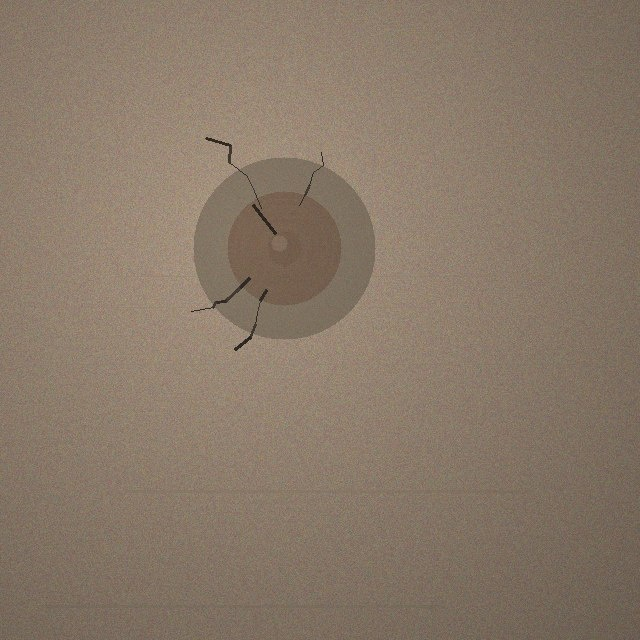crack: (193, 157, 375, 339)
